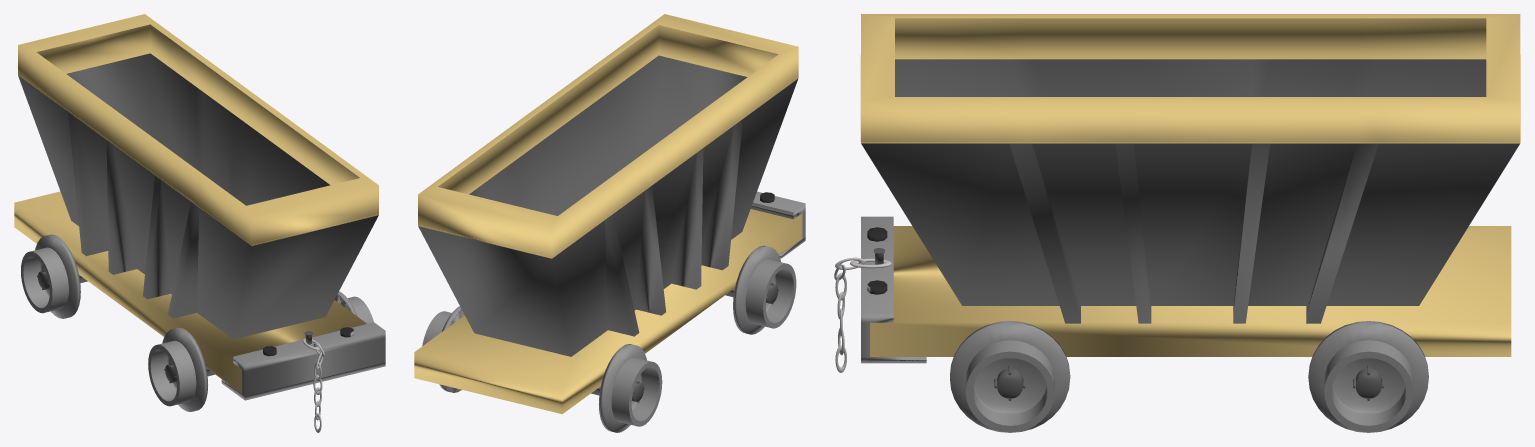
Rendered from вагонетка.fbx.
3 renders of one model, left to right at view 1: azimuth 30°, elevation 25°; view 2: azimuth 150°, elevation 25°; view 3: azimuth 270°, elevation 25°, orthographic. The views are drawn at different scales.
Visible parts, largest first — view 1: Cube_001; view 2: Cube_001; view 3: Cube_001.
Part boxes in pixels (x1,y1,x2,y2): Cube_001: (14,14,385,432); Cube_001: (414,14,805,432); Cube_001: (834,14,1520,432).
Bounding box in the file's own units: 0.4277 × 0.4728 × 0.9175.
